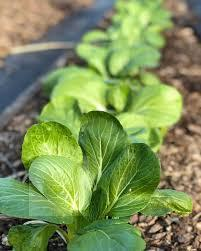Healthy-Pechay: (46, 70, 182, 150), (23, 148, 162, 208), (60, 201, 146, 251), (0, 179, 58, 251), (115, 0, 162, 72), (18, 120, 65, 152), (154, 185, 194, 216)
